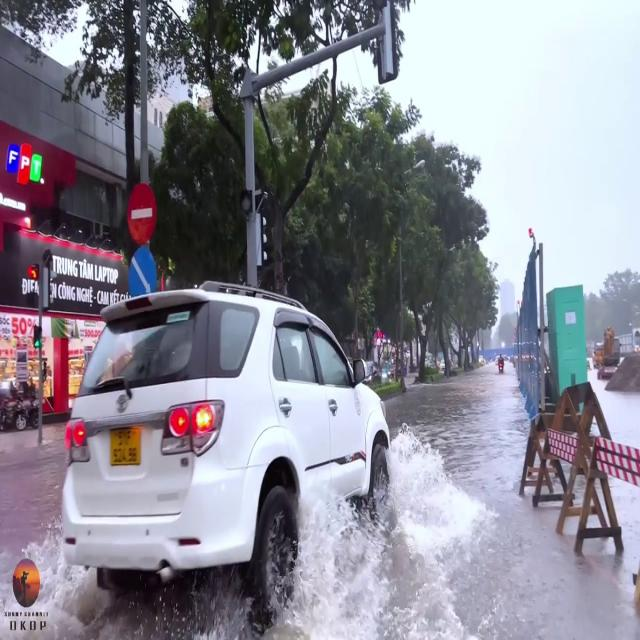bien_vang: (110, 426, 140, 465)
